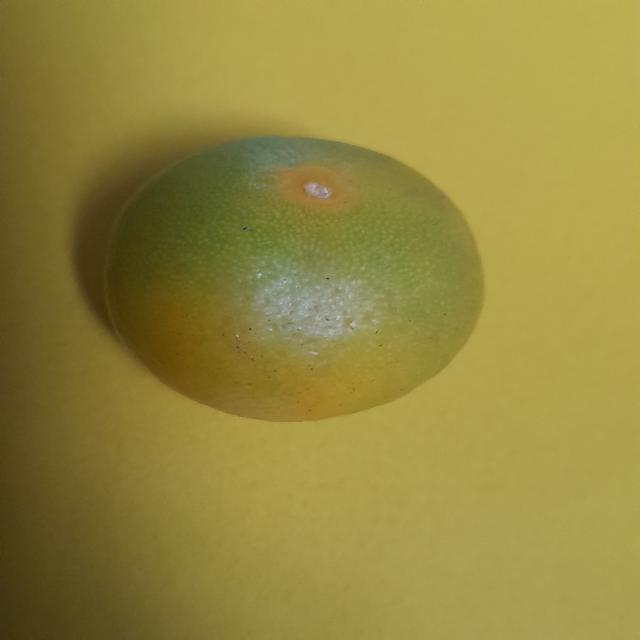greening: (96, 133, 497, 421)
